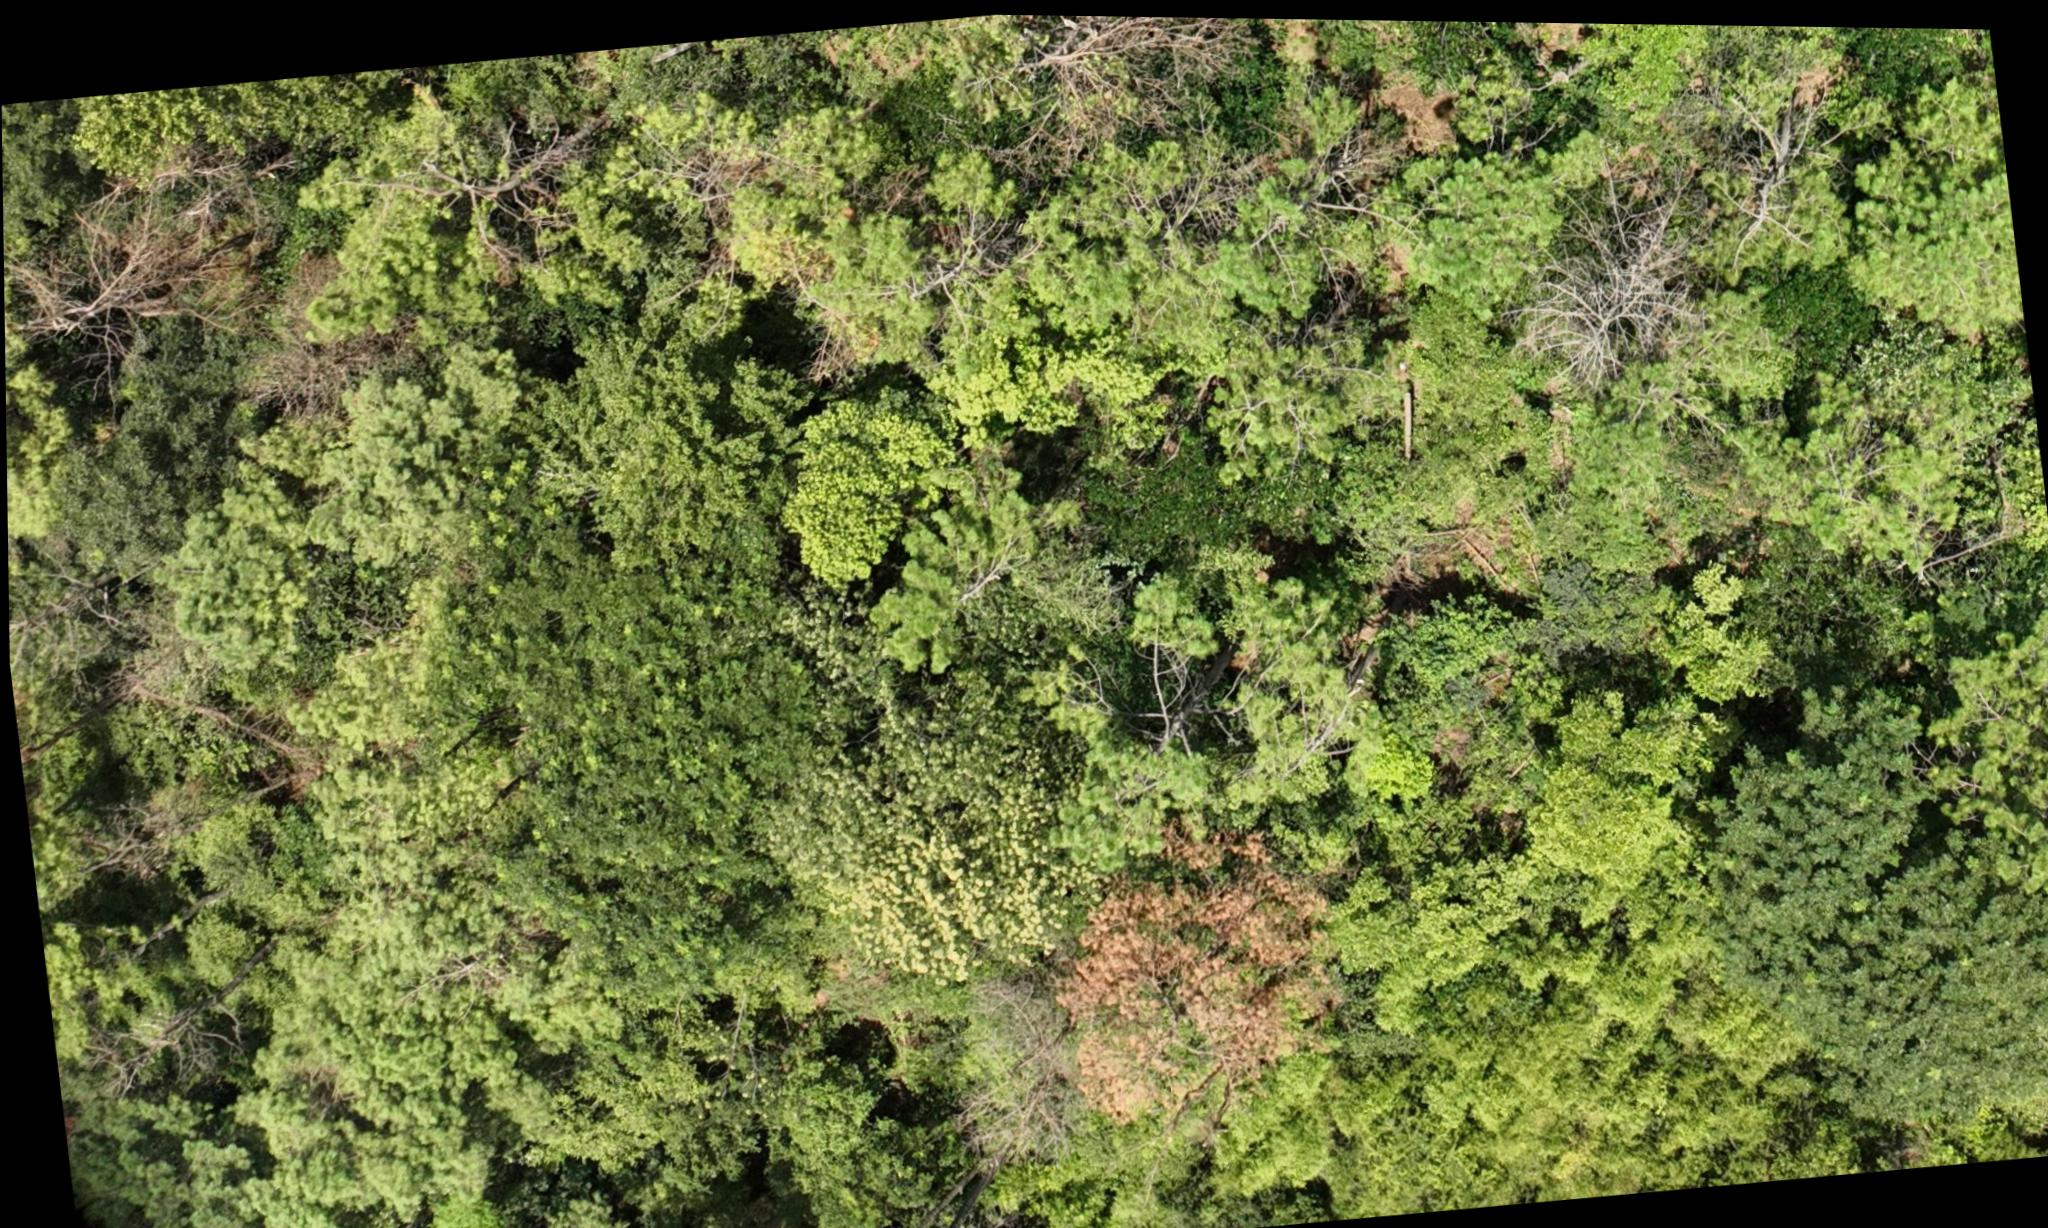dead: (10, 168, 278, 358), (1478, 190, 1709, 383), (1017, 12, 1251, 129)
heavy: (1036, 819, 1340, 1107)
